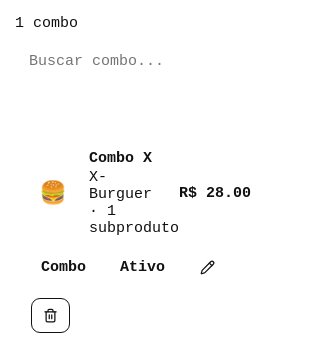
it: CombosView, ligar/desligar combo › sucesso mantém a mudança e não avisa nada
The width and height of the screenshot is (320, 350).
Check: the text "Combo X" is shown, box left=89, top=150, right=152, bottom=167
What coordinates should you click on to do the following:
click the button "Ativo"
I would click on:
 (142, 268)
Its box is left=110, top=256, right=175, bottom=279.
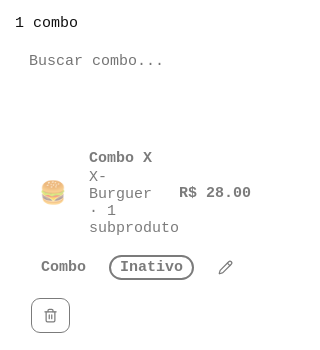
Check: the button "Inativo" is shown, box left=110, top=256, right=193, bottom=279
